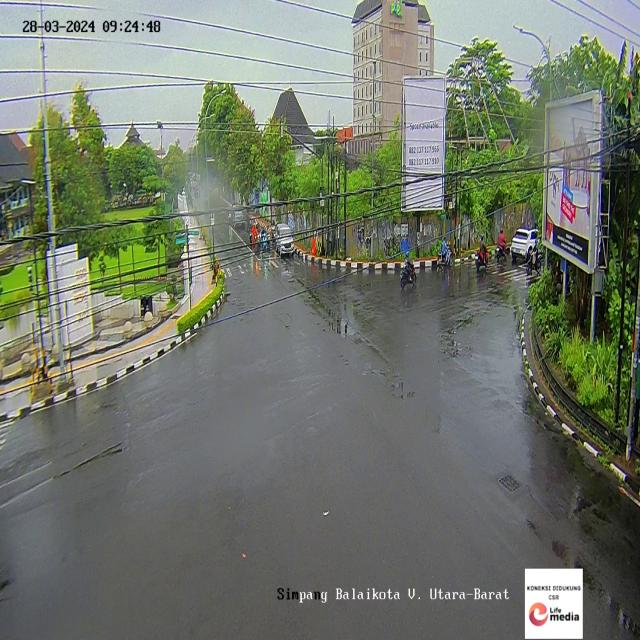car: (511, 229, 547, 259), (274, 223, 294, 257), (232, 209, 243, 230)
motorcycle: (400, 250, 416, 290), (474, 231, 488, 271), (437, 236, 452, 270), (496, 228, 508, 260), (251, 223, 258, 253), (260, 226, 267, 250)
